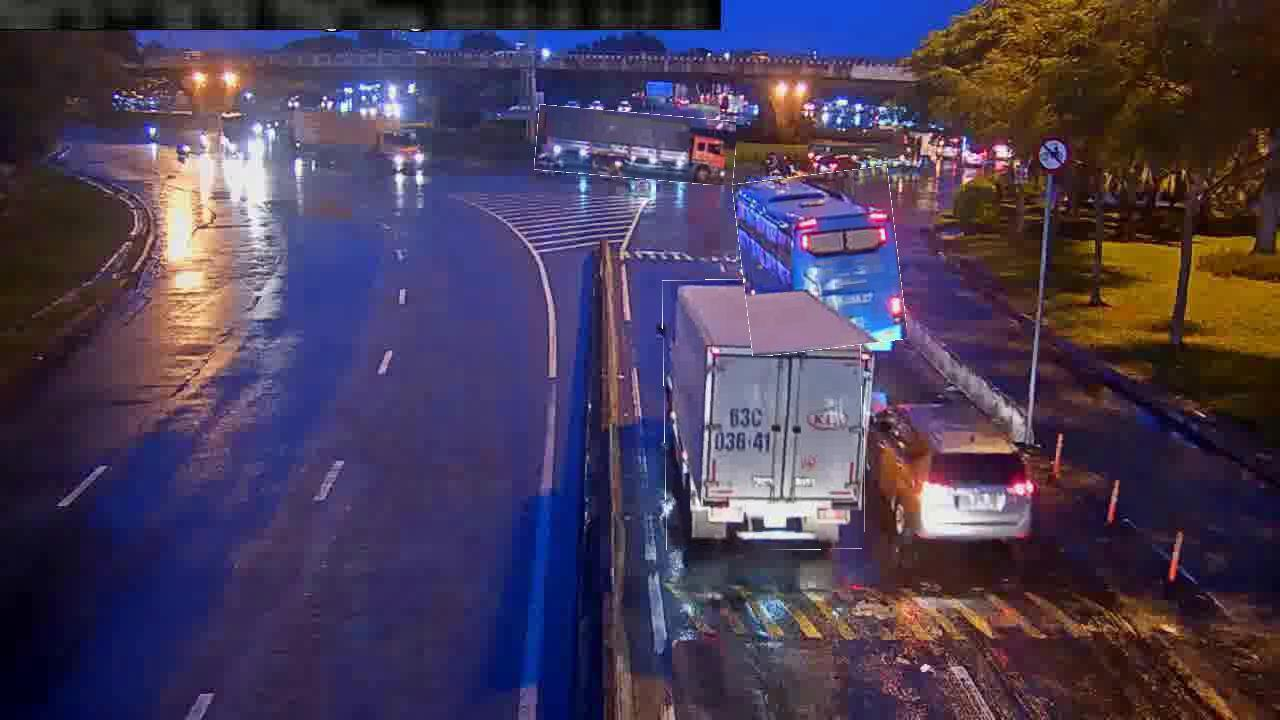14: (737, 171, 903, 353)
8: (663, 278, 862, 551), (535, 109, 736, 182)
container: (864, 397, 1035, 533)
